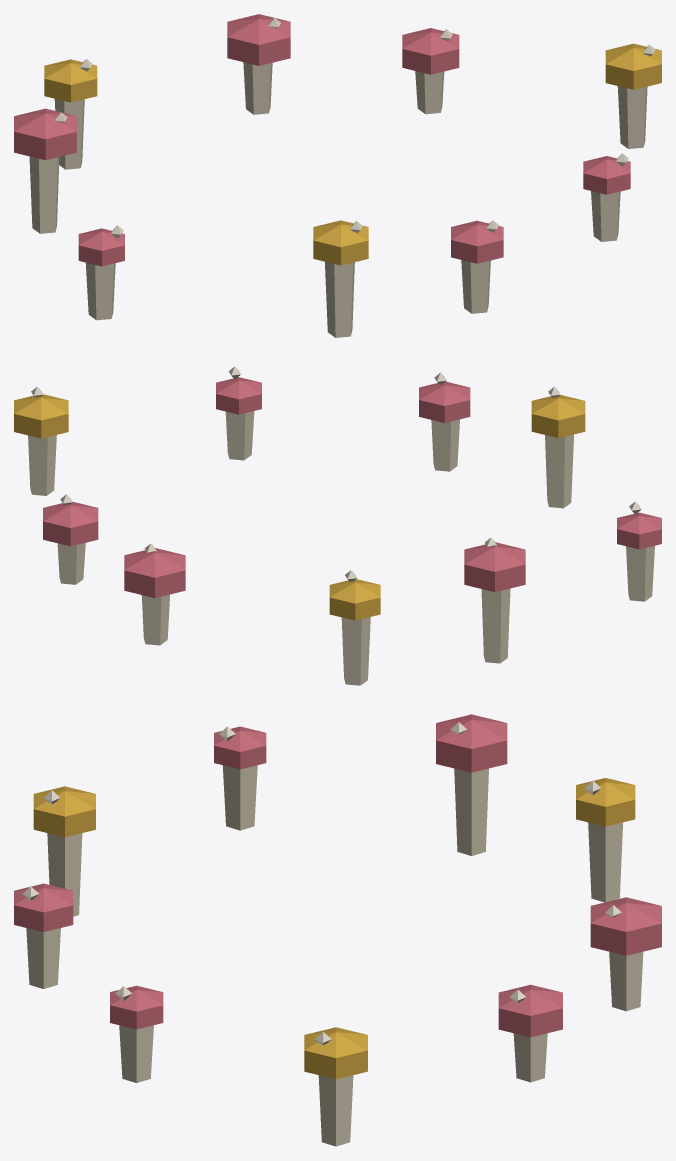
The model's file is mushroom_ring.glb.
3 renders of one model, top to bottom at view 1: azimuth 30°, elevation 25°; view 2: azimuth 150°, elevation 25°; view 3: azimuth 270°, elevation 25°, orthographic. The views are drawn at different scales.
Visible parts, largest first — view 1: mushroom_ring; view 2: mushroom_ring; view 3: mushroom_ring.
Part boxes in pixels (bbox=[...]): mushroom_ring: bbox=[14, 14, 661, 337]; mushroom_ring: bbox=[14, 366, 661, 685]; mushroom_ring: bbox=[14, 714, 661, 1146].
Size of the model in its own units: 1.91 by 0.3446 by 1.52.
